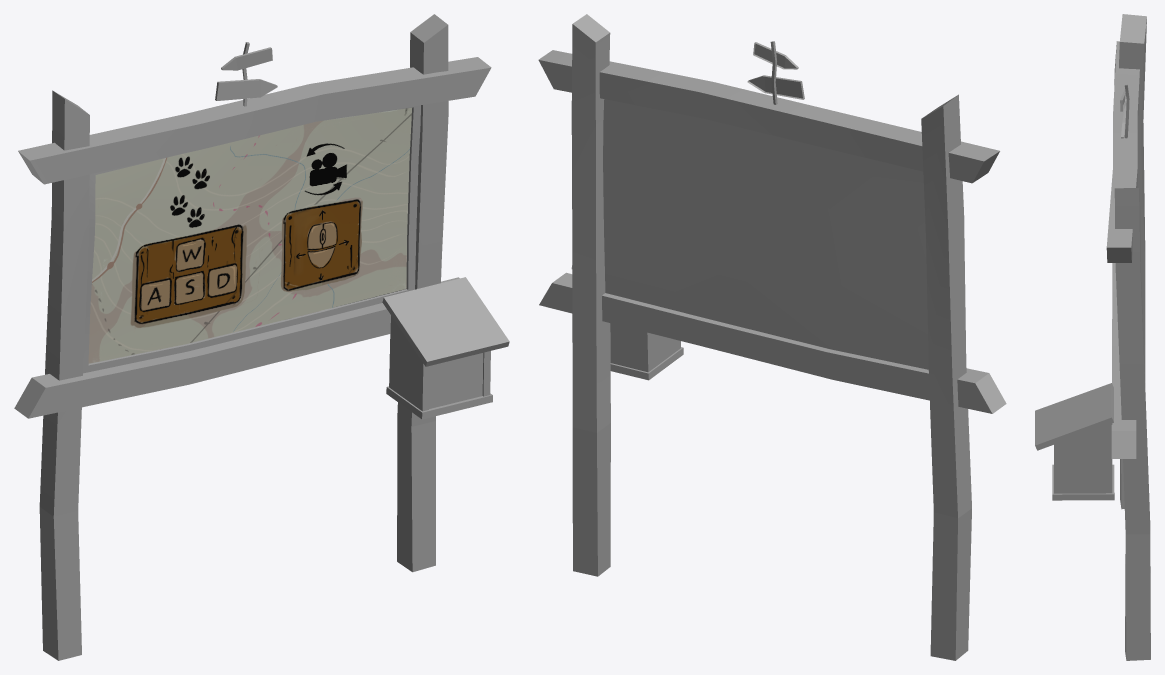
File: Post_small_Ctrls.fbx
3 renders of one model, left to right at view 1: azimuth 30°, elevation 25°; view 2: azimuth 150°, elevation 25°; view 3: azimuth 270°, elevation 25°, orthographic. The views are drawn at different scales.
Visible parts, largest first — view 1: Post_Small; view 2: Post_Small; view 3: Post_Small.
Boxes of the visible parts, left/top/right/bottom form: Post_Small: left=14, top=14, right=509, bottom=660; Post_Small: left=538, top=14, right=1006, bottom=660; Post_Small: left=1035, top=14, right=1150, bottom=660.
Size of the model in its own units: 4.77 by 5.63 by 1.19.
Materials: 2 (1 with a texture image).
